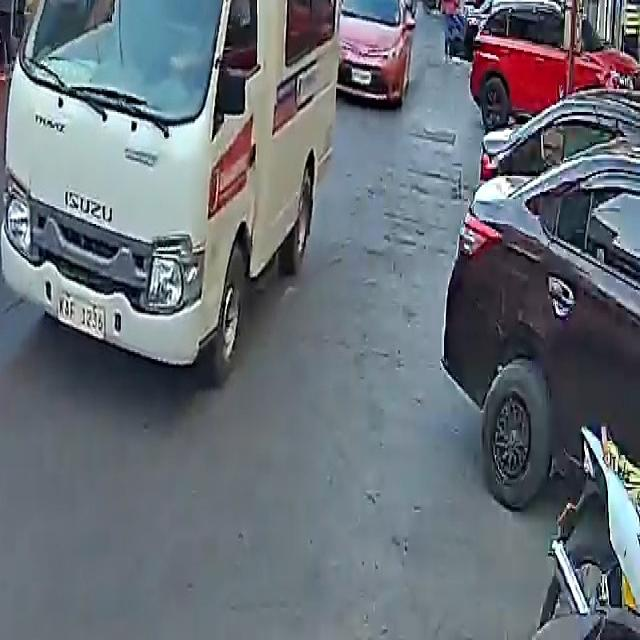car: (446, 111, 640, 519), (469, 0, 640, 130), (337, 0, 417, 110), (0, 0, 20, 325)
